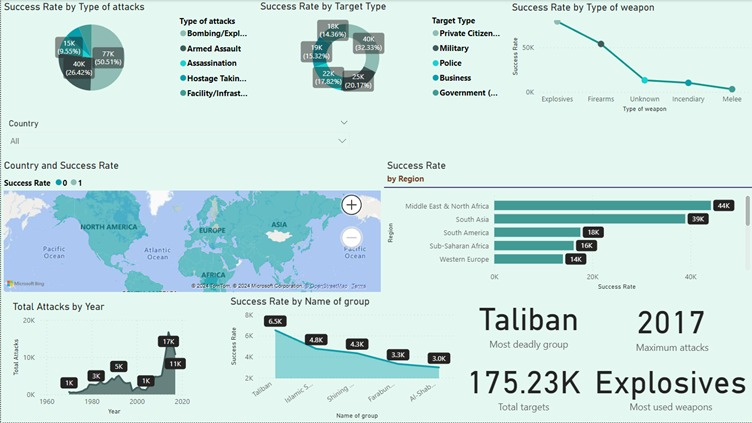

The page's visual inventory and layout, read from the dashboard file:
{"tool":"powerbi","page":{"name":"Page 1","canvas":[1280,720],"ordinal":0},"visuals":[{"type":"pieChart","fields":{"Category":["Global terrorism final data set.Type of attacks"],"Y":["Sum(Global terrorism final data set.Success Rate)"]},"box":[0,1.7,436.7,175],"z":0},{"type":"donutChart","fields":{"Category":["Global terrorism final data set.Target Type"],"Y":["Sum(Global terrorism final data set.Success Rate)"]},"box":[436.8,0,427.6,196.1],"z":1000},{"type":"stackedAreaChart","fields":{"Category":["Global terrorism final data set.Type of weapon"],"Y":["Sum(Global terrorism final data set.Success Rate)"]},"box":[865,1.7,415,195],"z":2000},{"type":"filledMap","fields":{"Category":["Global terrorism final data set.Country"],"Series":["Global terrorism final data set.Success Rate"]},"box":[0,271.7,651.7,231.7],"z":3000},{"type":"clusteredBarChart","fields":{"Category":["Global terrorism final data set.Region"],"Y":["Sum(Global terrorism final data set.Success Rate)"]},"box":[651.7,271.7,628.3,228.3],"z":4000},{"type":"stackedAreaChart","fields":{"Category":["Global terrorism final data set.Name of group"],"Y":["Sum(Global terrorism final data set.Success Rate)"]},"box":[385,503.3,393.3,216.7],"z":5000},{"type":"areaChart","fields":{"Category":["Global terrorism final data set.Year"],"Y":["CountNonNull(Global terrorism final data set.Year)"]},"box":[15,511.7,311.7,200],"z":6000},{"type":"slicer","fields":{"Values":["Global terrorism final data set.Country"]},"box":[0,196.7,603.3,75],"z":7000},{"type":"card","fields":{"Values":["Min(Global terrorism final data set.Name of group)"]},"box":[778.3,492.8,268.1,118.8],"z":8000},{"type":"card","fields":{"Values":["CountNonNull(Global terrorism final data set.Target Type)"]},"box":[786.7,601.7,206.7,106.7],"z":9000},{"type":"card","fields":{"Values":["Max(Global terrorism final data set.Year)"]},"box":[1046.7,503.3,188.3,100],"z":10000},{"type":"card","fields":{"Values":["Min(Global terrorism final data set.Type of weapon)"]},"box":[1001.7,588.3,278.3,131.7],"z":11000}]}

Visuals, with their boxes in screenshot pixels (x1, y1, x2, y2), scaled from the page's 1280x720 canvas onto the 752x423 screenshot:
pieChart - Global terrorism final data set.Type of attacks x Sum(Global terrorism final data set.Success Rate): region(0, 1, 257, 104)
donutChart - Global terrorism final data set.Target Type x Sum(Global terrorism final data set.Success Rate): region(257, 0, 508, 115)
stackedAreaChart - Global terrorism final data set.Type of weapon x Sum(Global terrorism final data set.Success Rate): region(508, 1, 751, 116)
filledMap - Global terrorism final data set.Country x Global terrorism final data set.Success Rate: region(0, 160, 383, 296)
clusteredBarChart - Global terrorism final data set.Region x Sum(Global terrorism final data set.Success Rate): region(383, 160, 751, 294)
stackedAreaChart - Global terrorism final data set.Name of group x Sum(Global terrorism final data set.Success Rate): region(226, 296, 457, 422)
areaChart - Global terrorism final data set.Year x CountNonNull(Global terrorism final data set.Year): region(9, 301, 192, 418)
slicer - Global terrorism final data set.Country: region(0, 116, 354, 160)
card - Min(Global terrorism final data set.Name of group): region(457, 290, 615, 359)
card - CountNonNull(Global terrorism final data set.Target Type): region(462, 353, 584, 416)
card - Max(Global terrorism final data set.Year): region(615, 296, 726, 354)
card - Min(Global terrorism final data set.Type of weapon): region(588, 346, 751, 422)
